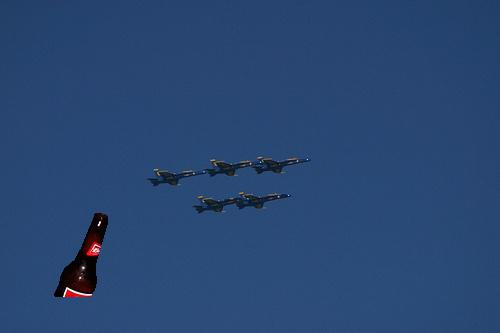tampered: (55, 214, 108, 297)
